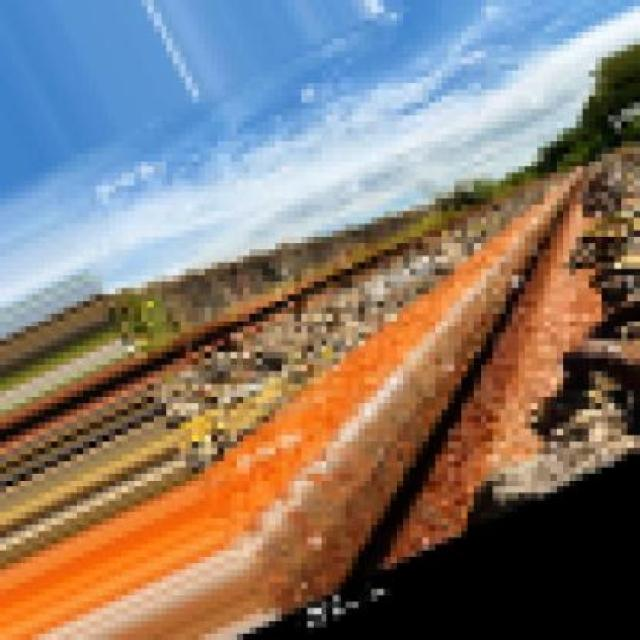defective: (0, 259, 638, 638)
